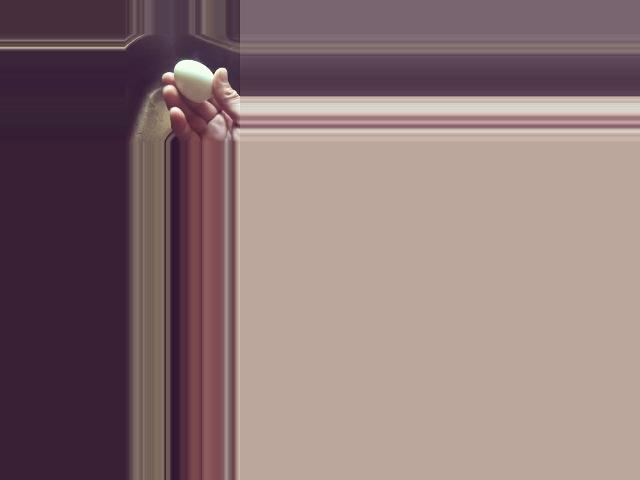egg: (174, 60, 214, 102)
